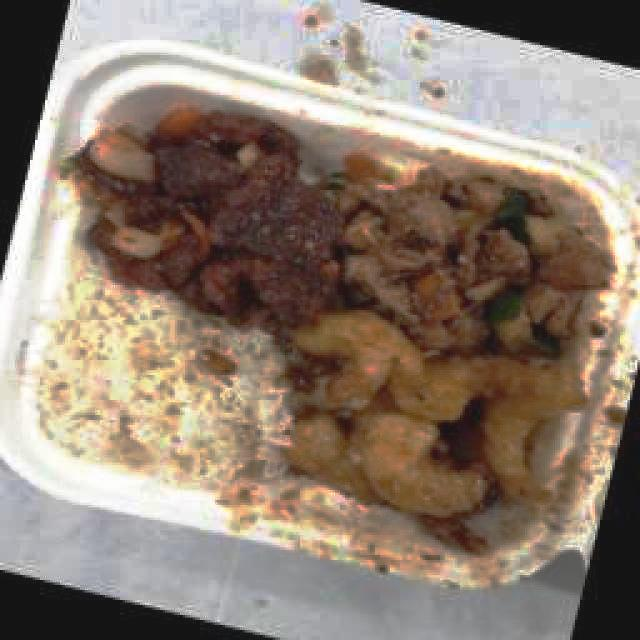Beijing Beef: (76, 109, 315, 297)
Kung Pao Chicken: (340, 166, 615, 339)
rice: (34, 290, 149, 476), (154, 334, 269, 485)
